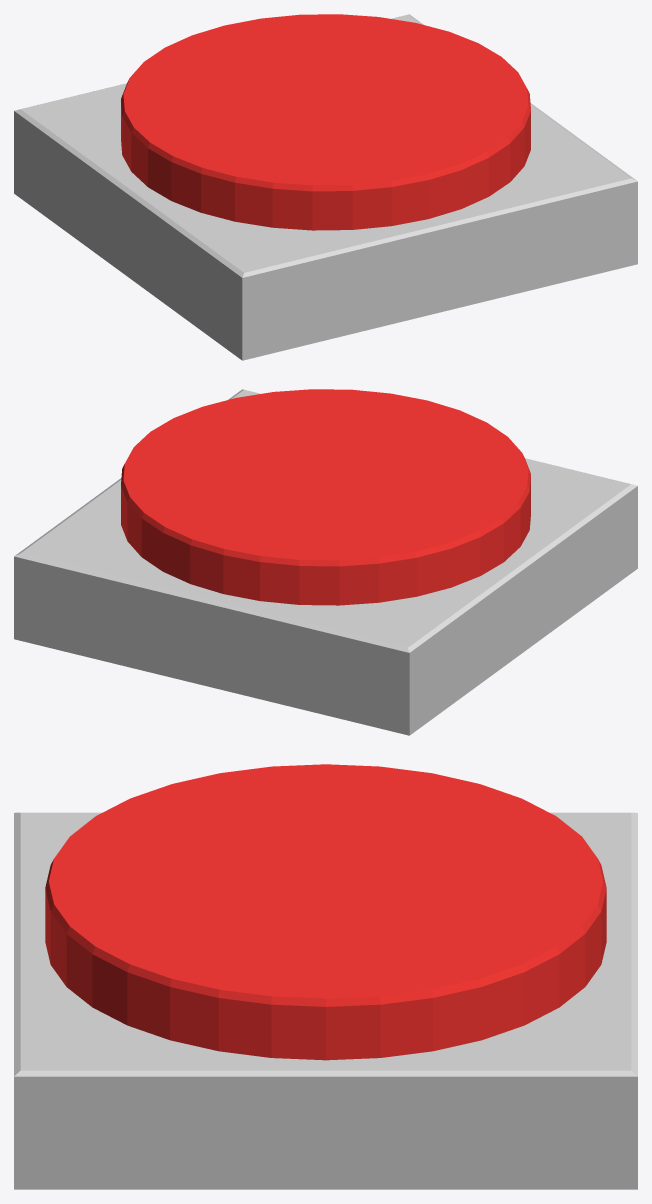
Rendered from resetButton_stopwatch.glb.
3 views of the same model, one above another, from view 1: azimuth 30°, elevation 25°; view 2: azimuth 150°, elevation 25°; view 3: azimuth 270°, elevation 25° (orthographic). The views are drawn at different scales.
Parts seen in each view (by area): view 1: Cube, Circle; view 2: Cube, Circle; view 3: Circle, Cube.
Boxes of the visible parts, box(x1,y1,x2,y2) form: Cube: box(14, 14, 637, 360); Circle: box(121, 14, 530, 230); Cube: box(14, 389, 637, 735); Circle: box(121, 389, 530, 605); Circle: box(45, 764, 606, 1060); Cube: box(14, 812, 637, 1189).
Size of the model in its own units: 200 by 62.39 by 200.
